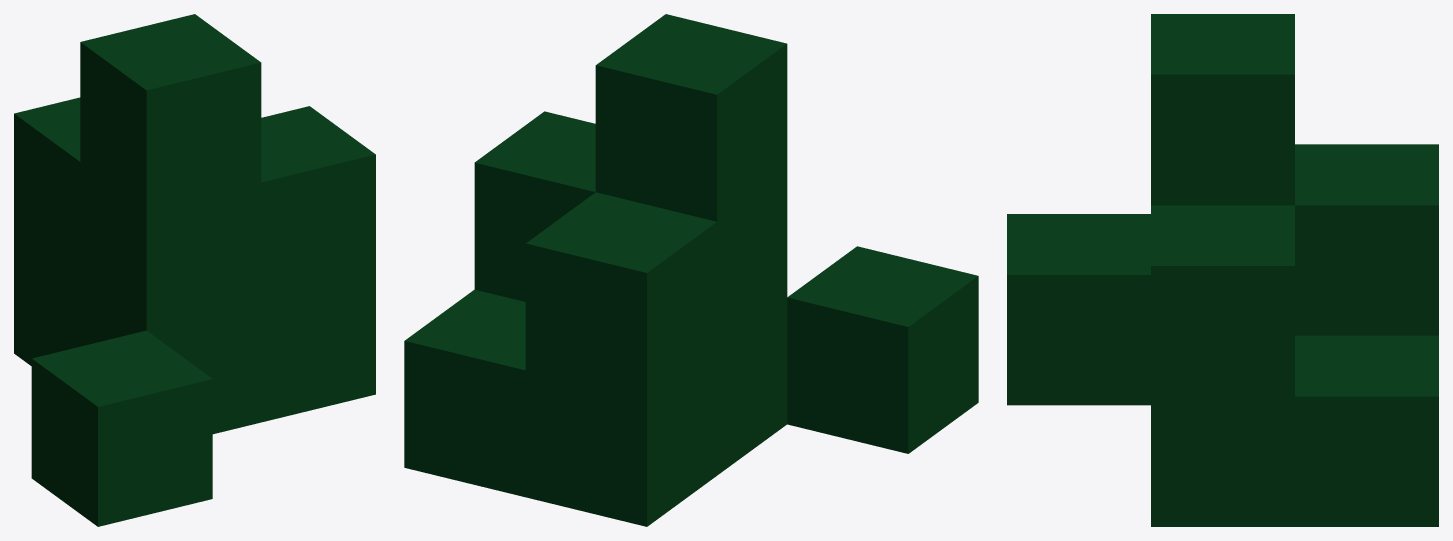
File: GrassPiece3.fbx
3 views of the same model, side by side, from view 1: azimuth 30°, elevation 25°; view 2: azimuth 150°, elevation 25°; view 3: azimuth 270°, elevation 25° (orthographic). The views are drawn at different scales.
Visible parts, largest first — view 1: Matrix_Piece1_0_0_Piece0_0_0; view 2: Matrix_Piece1_0_0_Piece0_0_0; view 3: Matrix_Piece1_0_0_Piece0_0_0.
Boxes of the visible parts, left/top/right/bottom form: Matrix_Piece1_0_0_Piece0_0_0: left=14, top=14, right=375, bottom=526; Matrix_Piece1_0_0_Piece0_0_0: left=404, top=14, right=978, bottom=526; Matrix_Piece1_0_0_Piece0_0_0: left=1007, top=14, right=1438, bottom=526.
Size of the model in its own units: 3 by 3 by 3.
Materials: 1 (1 with a texture image).
